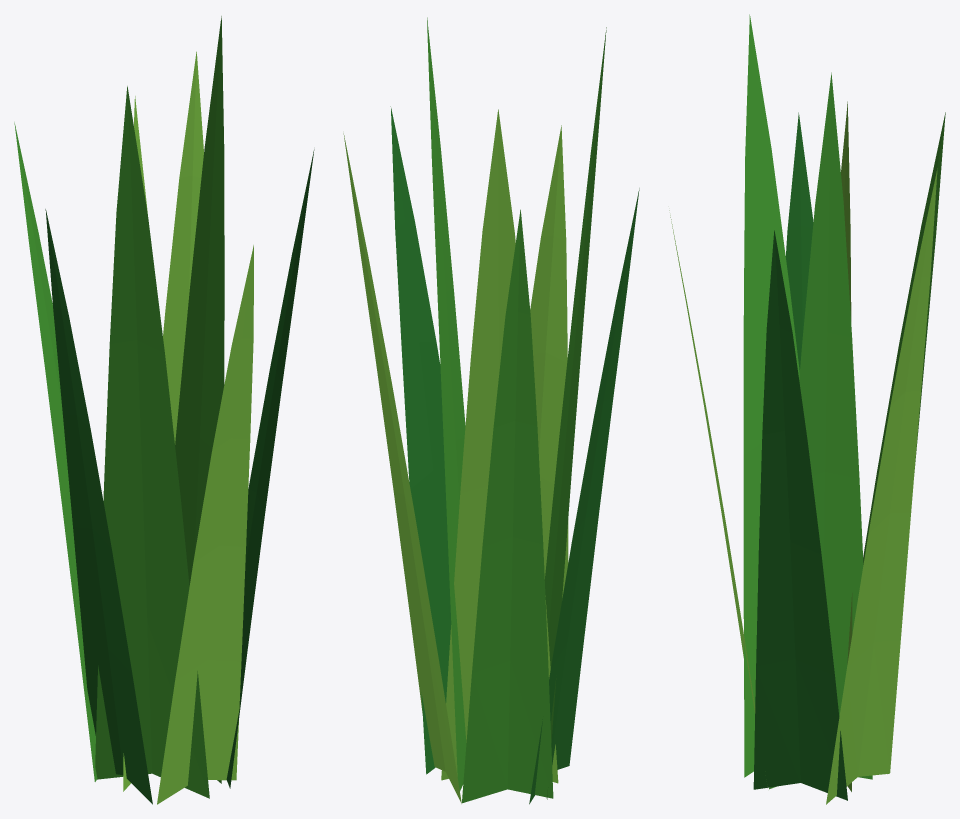
The model's file is ForestGrass.obj.
3 renders of one model, left to right at view 1: azimuth 30°, elevation 25°; view 2: azimuth 150°, elevation 25°; view 3: azimuth 270°, elevation 25°, orthographic. The views are drawn at different scales.
Visible parts, largest first — view 1: ForestGrass; view 2: ForestGrass; view 3: ForestGrass.
Boxes of the visible parts, x1,y1,x2,y2 form: ForestGrass: (14,16,314,804); ForestGrass: (343,17,639,804); ForestGrass: (669,14,945,804).
Bounding box in the file's own units: 0.36 × 0.99 × 0.34.
Materials: 3 (3 with a texture image).
